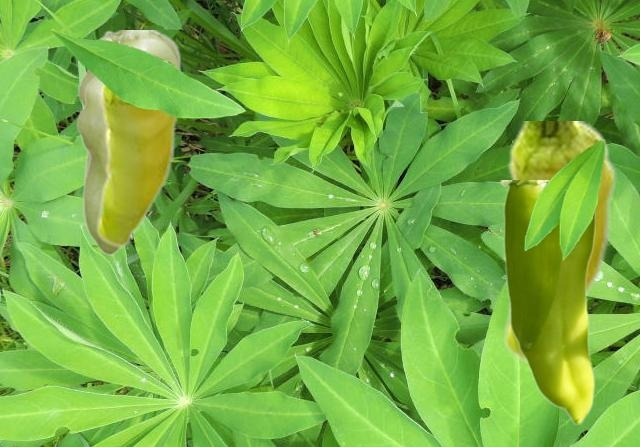green_chili: (502, 121, 616, 363), (499, 180, 594, 423), (75, 30, 182, 174), (95, 82, 179, 247), (74, 76, 122, 254)
